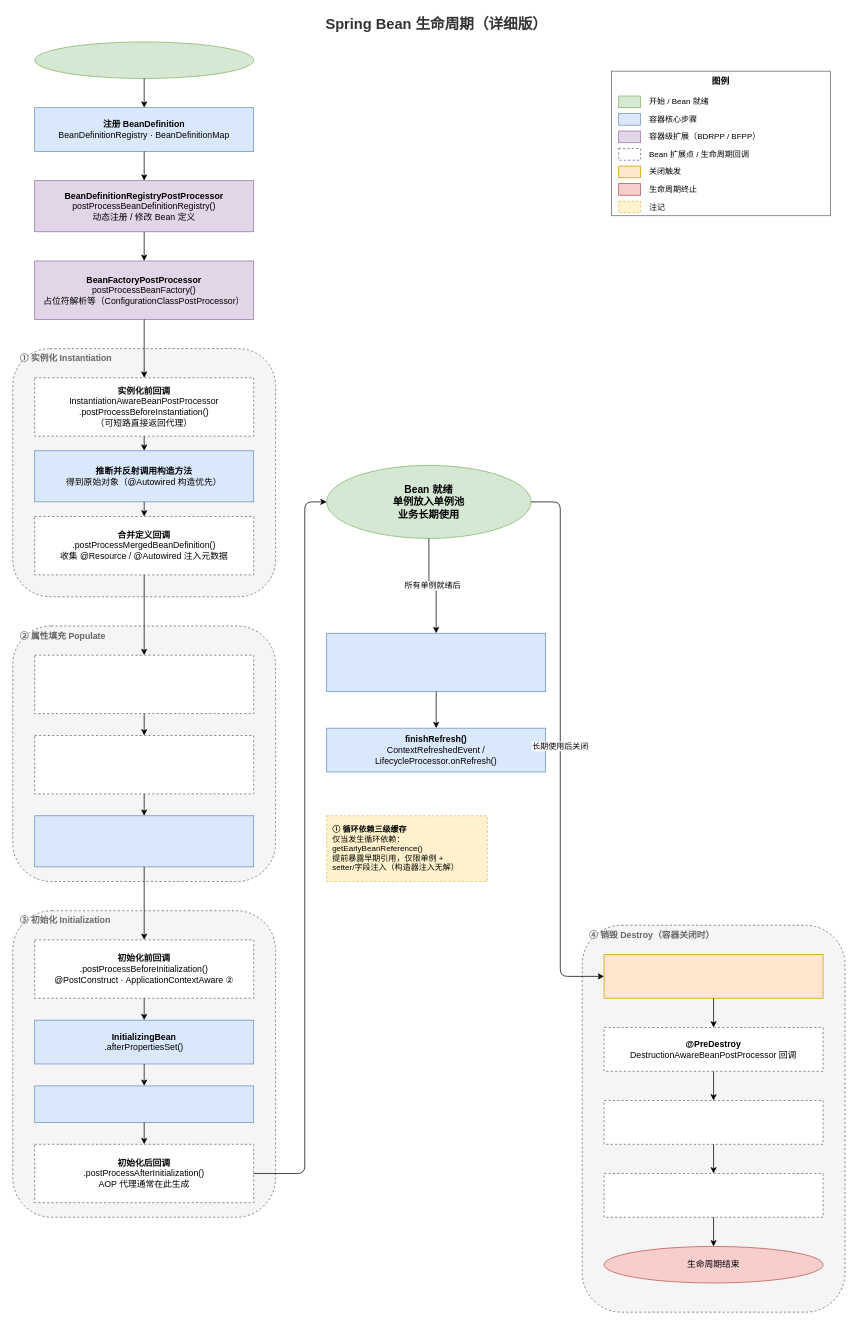
This 858x1325 diagram has some shape labels left out. The shapes that lost their labels are listed below. From the top down, each one's centre as x and y in pixels, then its label:
At point (144, 59): "容器启动 扫描注解 / 解析配置类".
At point (436, 662): "SmartInitializingSingleton .afterSingletonsInstantiated() （所有单例就绪后回调一次）".
At point (144, 684): "实例化后回调 .postProcessAfterInstantiation() 返回 false 可跳过属性填充".
At point (144, 764): "属性填充 .postProcessProperties() @Autowired / @Value / @Resource 注入".
At point (144, 841): "Aware 回调 ①（直接回调） BeanNameAware / BeanClassLoaderAware / BeanFactoryAware".
At point (713, 976): "容器关闭 context.close() / registerShutdownHook()".
At point (144, 1103): "自定义 init-method".
At point (713, 1122): "DisposableBean .destroy()".
At point (713, 1195): "自定义 destroy-method".
